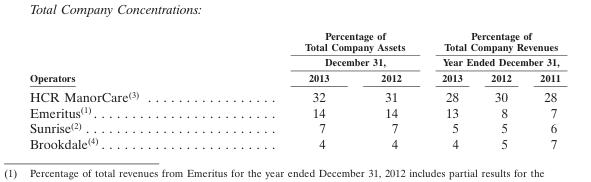table: (28, 29, 559, 151)
table column: (28, 29, 221, 151), (221, 29, 354, 151), (354, 29, 422, 151), (422, 29, 476, 151), (476, 29, 525, 151), (525, 29, 559, 151)
table column header: (28, 29, 559, 85)
table row: (28, 29, 559, 69), (28, 85, 559, 104), (28, 69, 559, 85), (28, 119, 559, 135), (28, 135, 559, 151), (28, 104, 559, 119)
table spanning cell: (28, 29, 221, 85), (221, 29, 422, 69), (422, 29, 559, 69)
